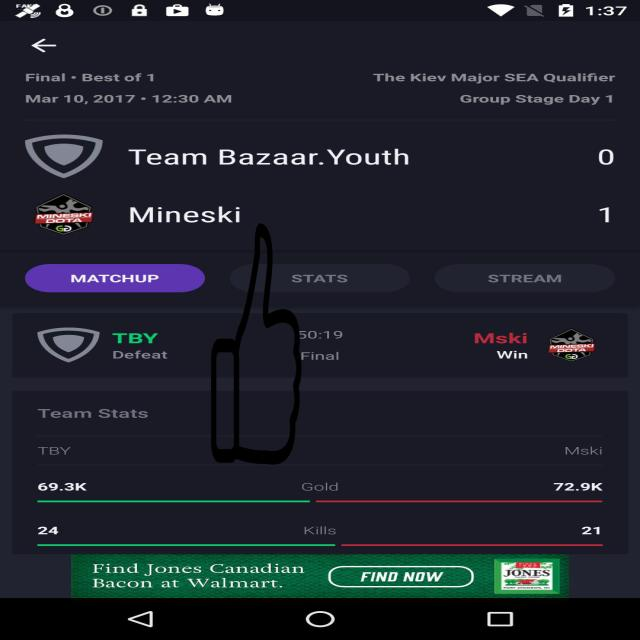privacy zuckering: (210, 223, 303, 465)
